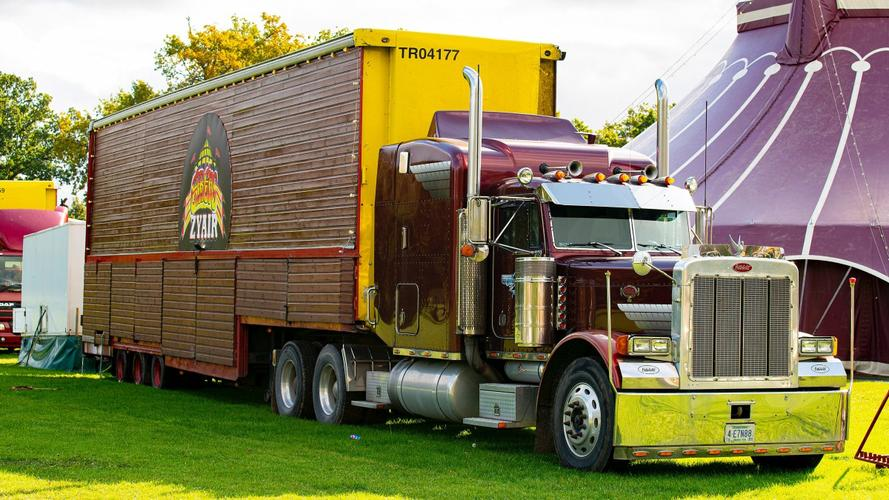卡车: (60, 22, 874, 492)
